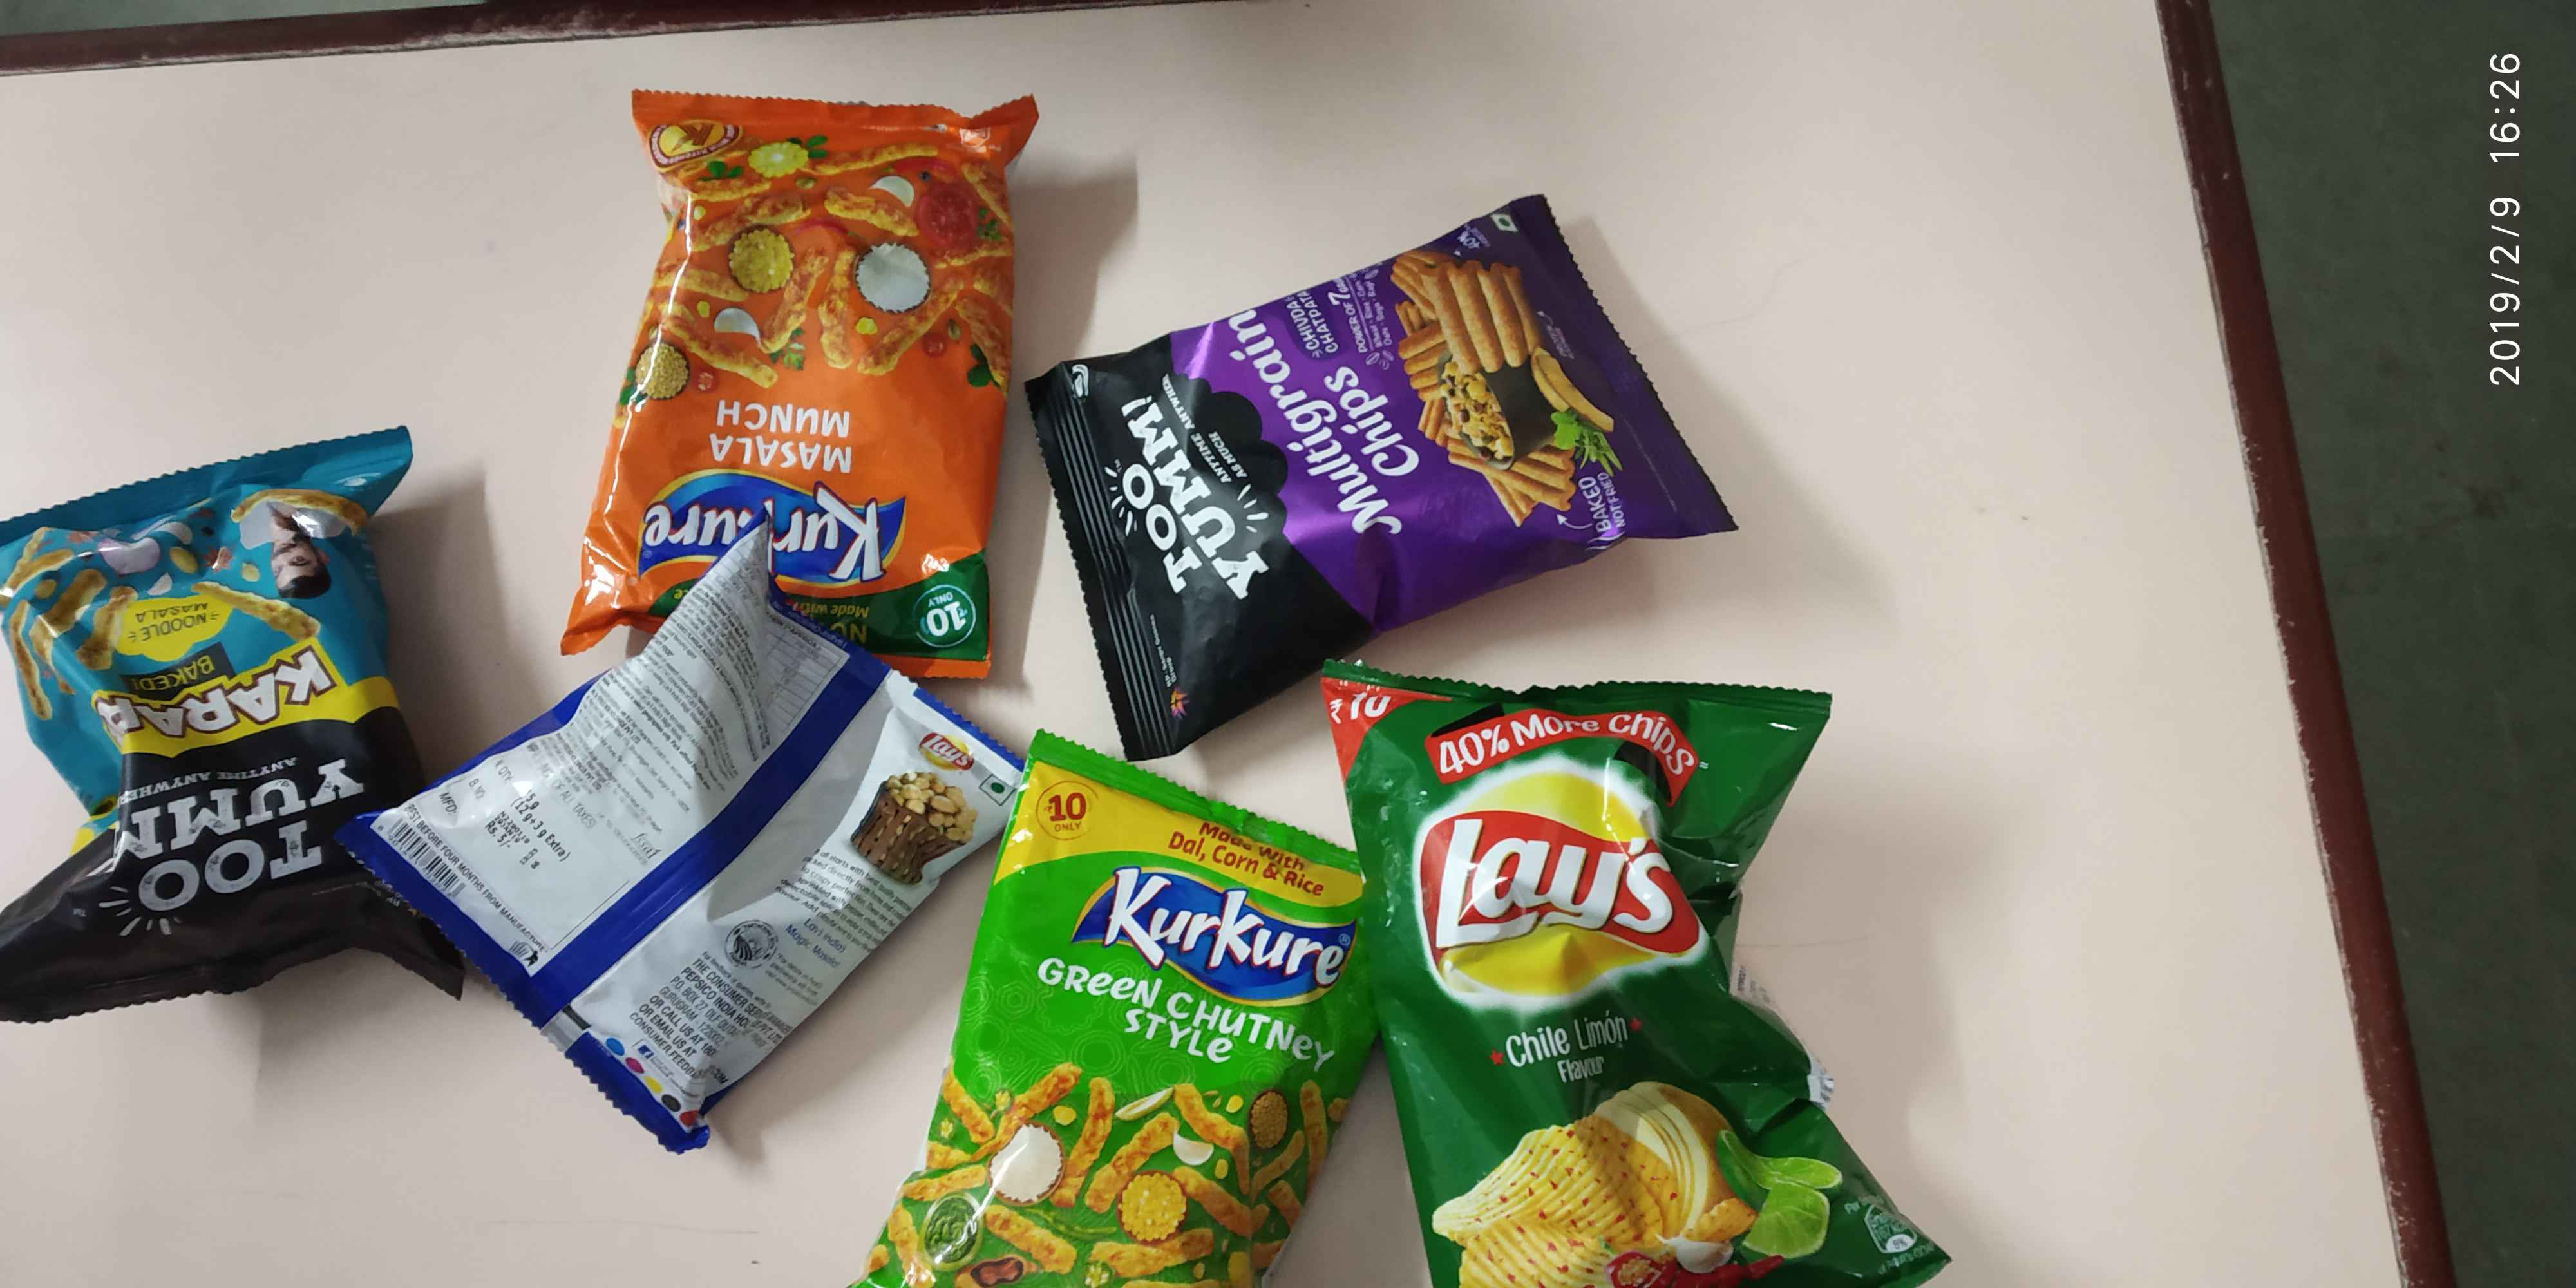Lays: (1378, 748, 1732, 1010), (904, 733, 989, 792)
kurkure: (619, 460, 933, 586), (1086, 861, 1341, 987)
tooyumm: (1097, 376, 1280, 624), (110, 744, 378, 912)
